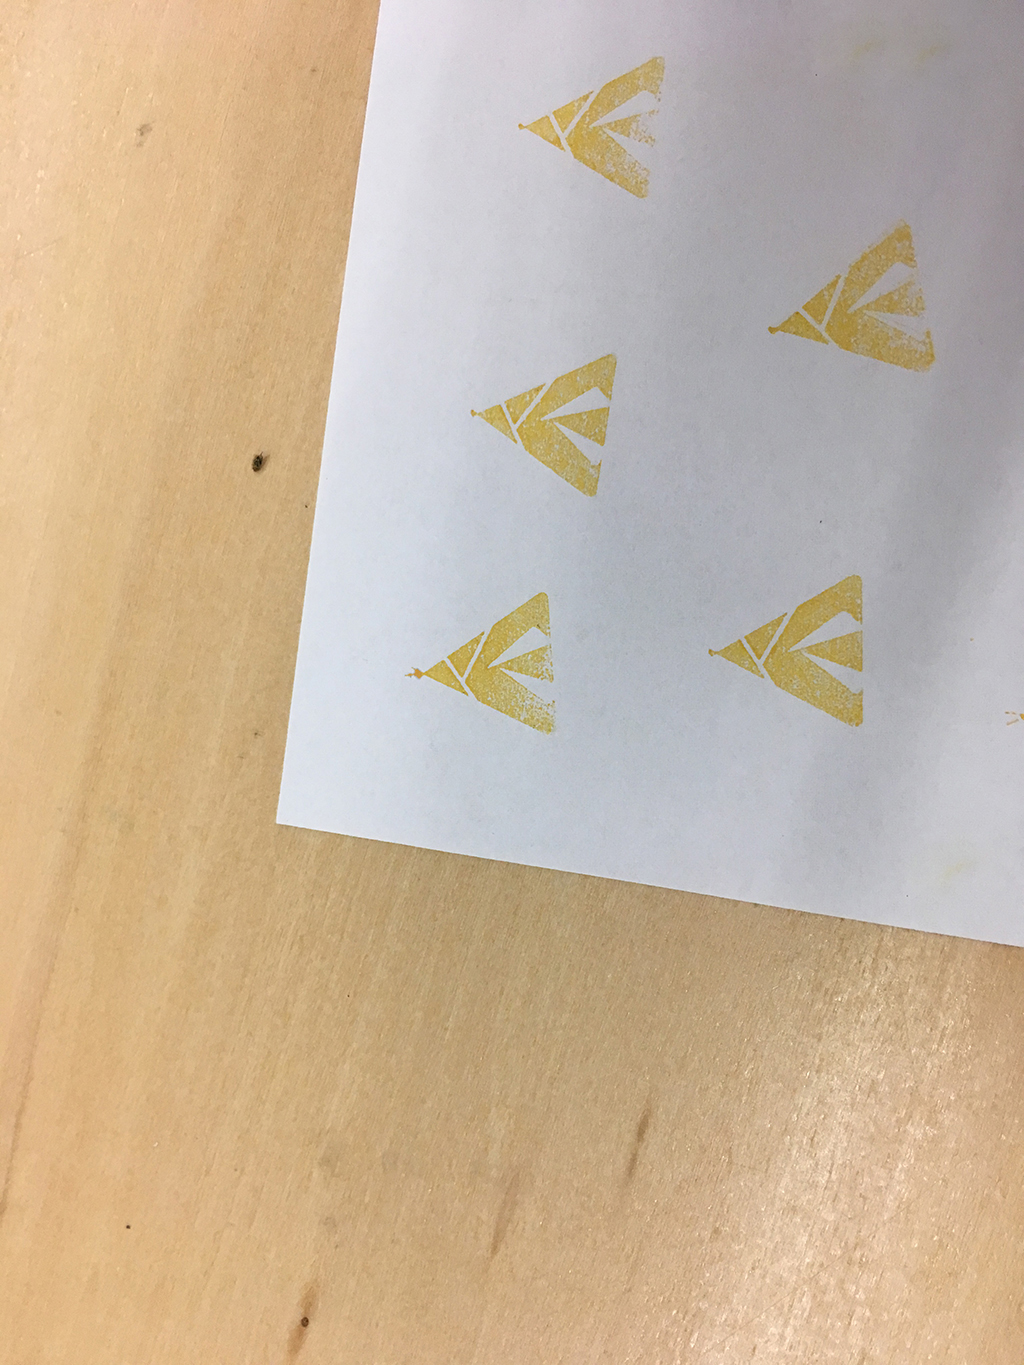tent: (686, 563, 891, 743), (748, 209, 944, 381), (454, 336, 632, 511), (498, 46, 682, 213), (398, 581, 568, 747)
